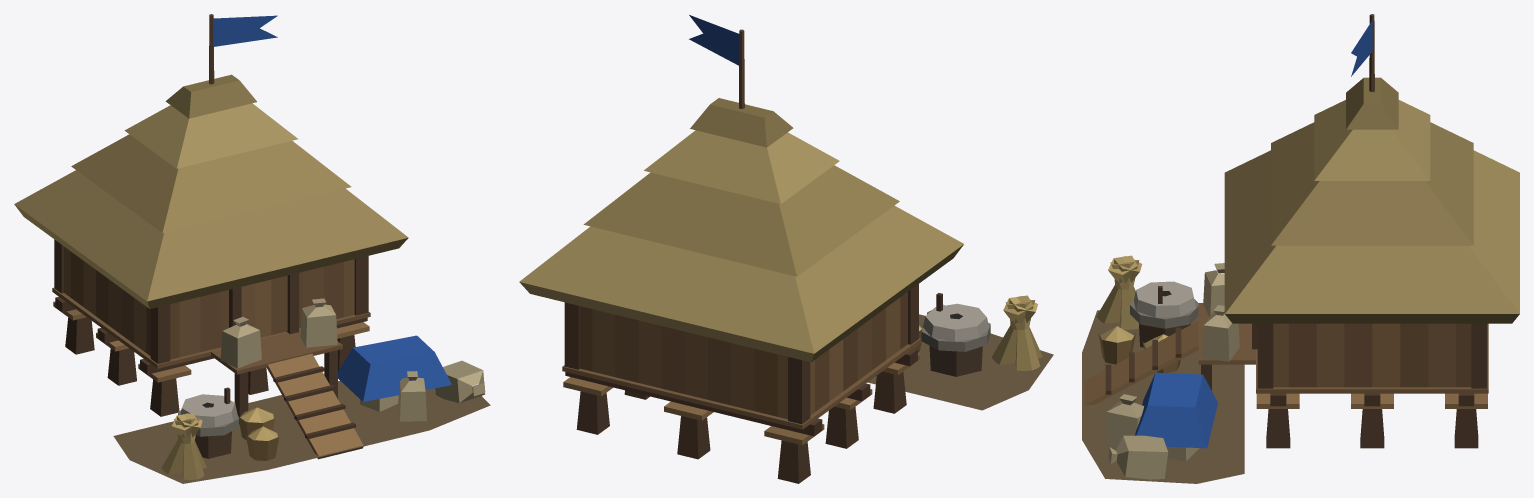
File: mill.glb
3 views of the same model, side by side, from view 1: azimuth 30°, elevation 25°; view 2: azimuth 150°, elevation 25°; view 3: azimuth 270°, elevation 25° (orthographic). The views are drawn at different scales.
Parts seen in each view (by area): view 1: mill; view 2: mill; view 3: mill.
Part boxes in pixels (x1,y1,x2,y2): mill: (14,14,490,483); mill: (519,15,1053,483); mill: (1082,14,1519,483).
Size of the model in its own units: 5.4 by 5.3 by 5.49.
